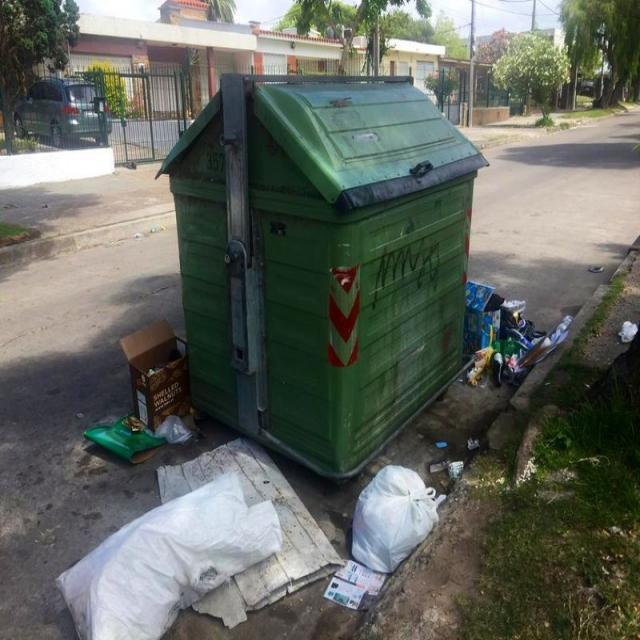garbage: (45, 458, 446, 639), (76, 311, 207, 464), (455, 276, 576, 389), (428, 432, 478, 479), (610, 302, 640, 365)
